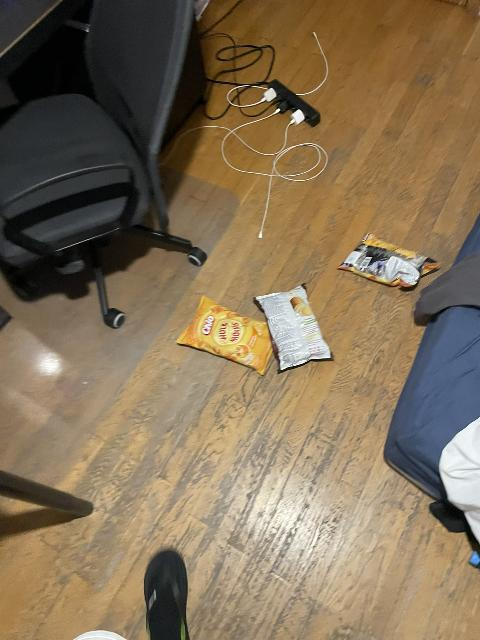Chio Cascaval 125g: (339, 232, 440, 288)
Chio Hula Hoops Cheese 70g: (175, 294, 271, 373)
Lays Beef Grilled Ribs 125g: (253, 284, 333, 371)
